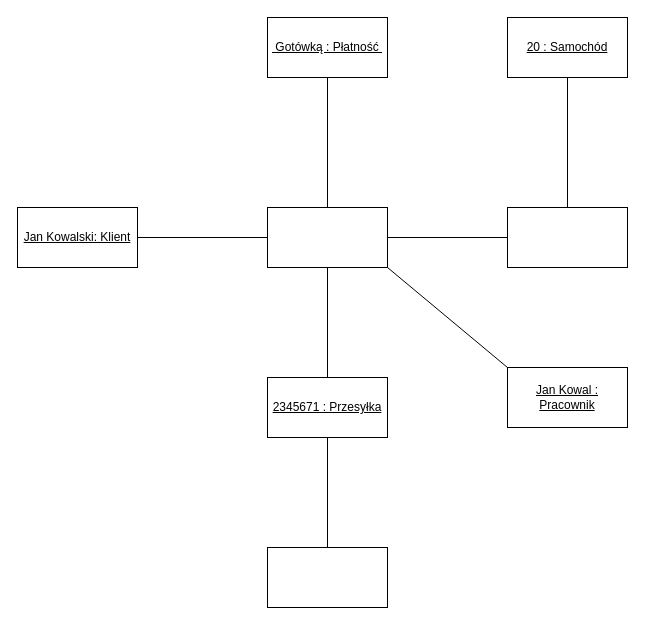
The diagram is 645 pixels wide and 625 high, and some of its shapes have lost their labels. The centre of each missing label's shape, as x and y in pixels:
"13042025/09 : Zlecenie" goes at [327,237].
"Jan Nowak : Kurier" goes at [567,237].
"W realizacji : Stan przesyłki" goes at [327,577].
